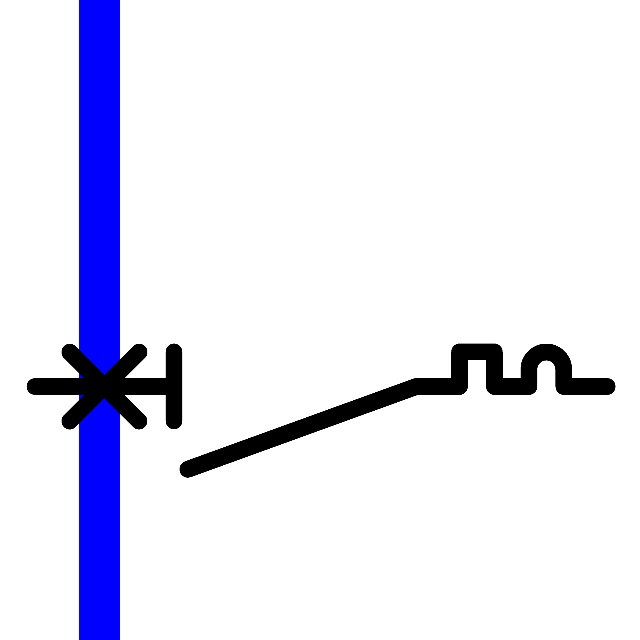interruptor_termomagnetico: (20, 337, 622, 484)
